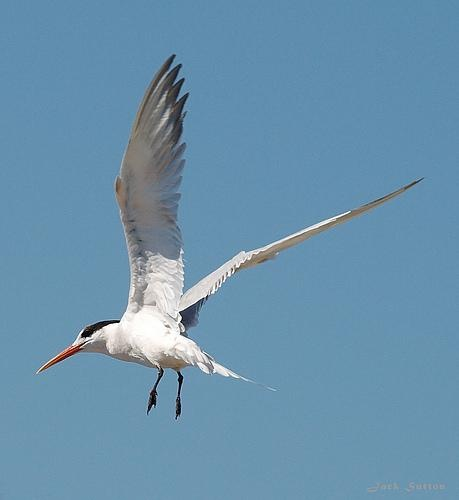bird: (29, 50, 427, 420)
